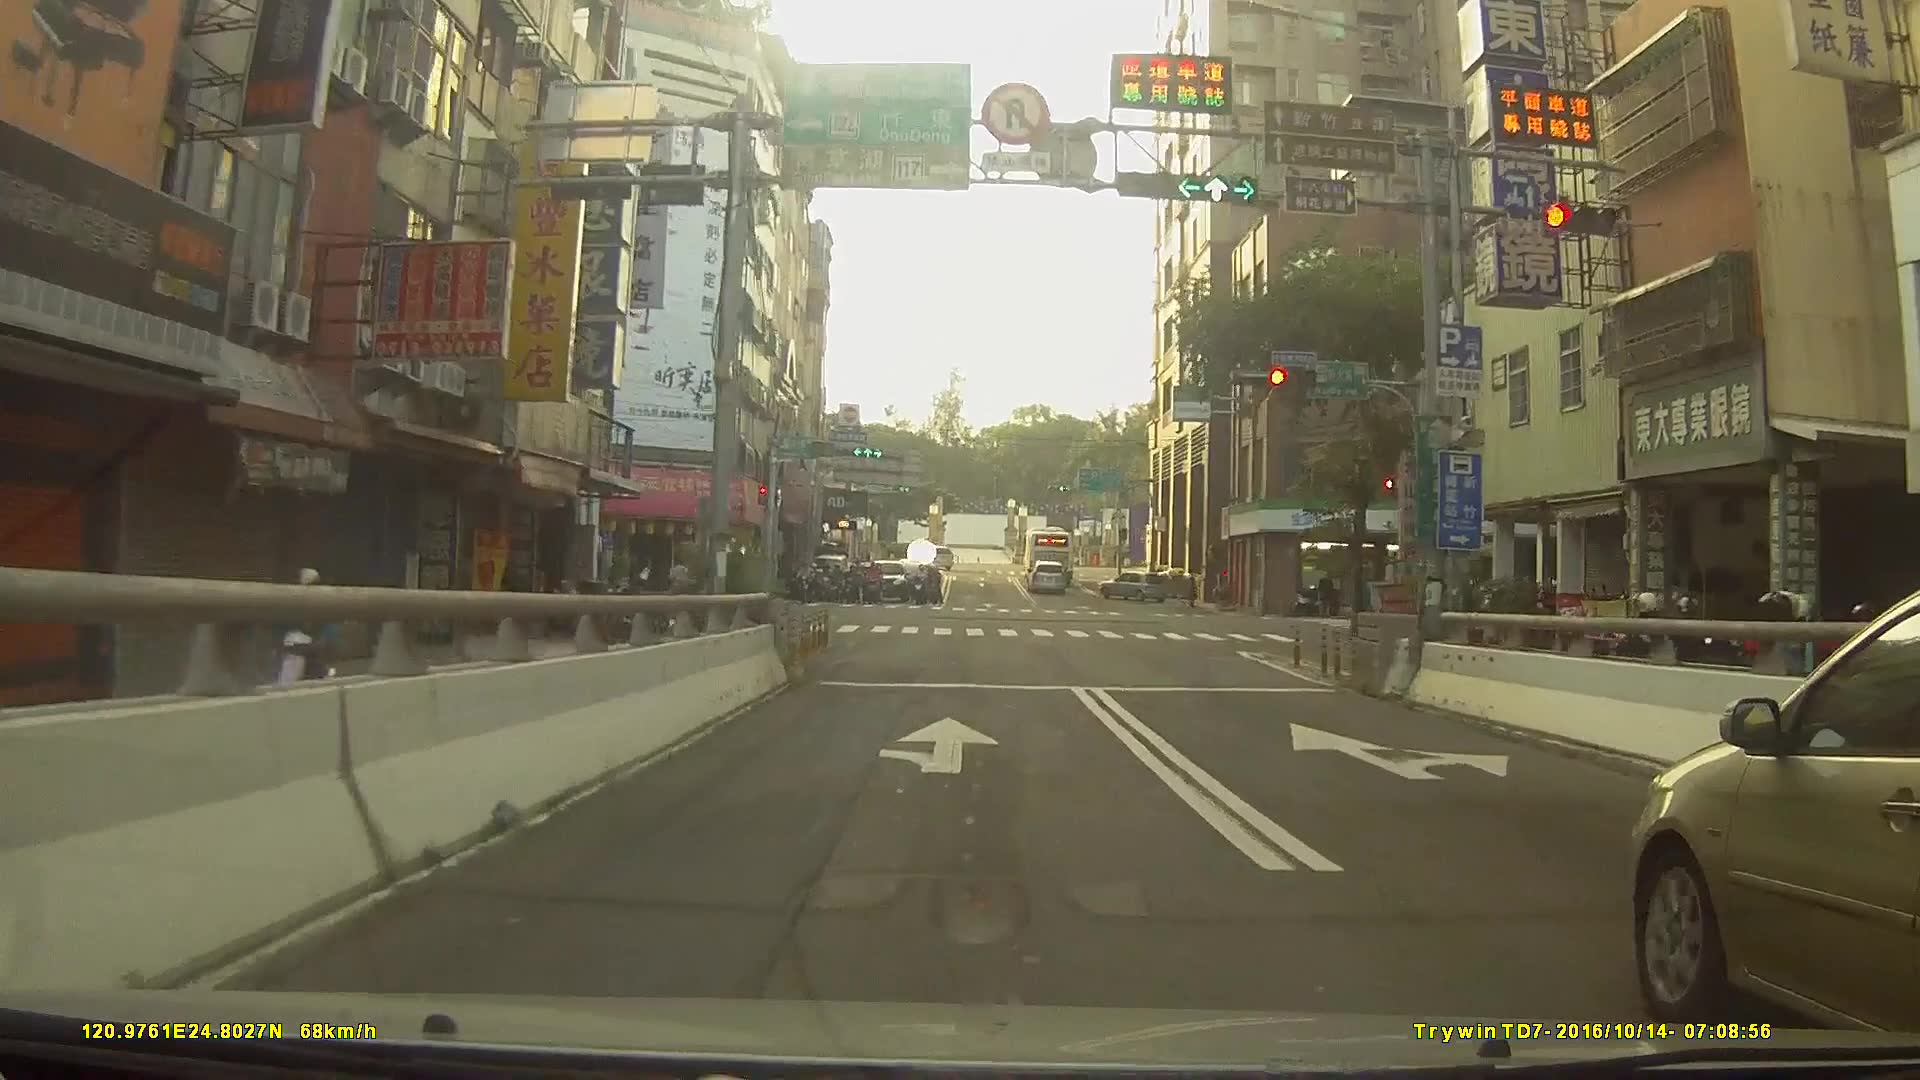pedestrian: (1316, 574, 1337, 619)
rider: (270, 569, 338, 726)
vehicle: (1630, 588, 1920, 1050), (1098, 568, 1172, 602), (1023, 526, 1074, 575), (863, 560, 909, 602), (1027, 558, 1067, 594), (905, 538, 952, 566)
